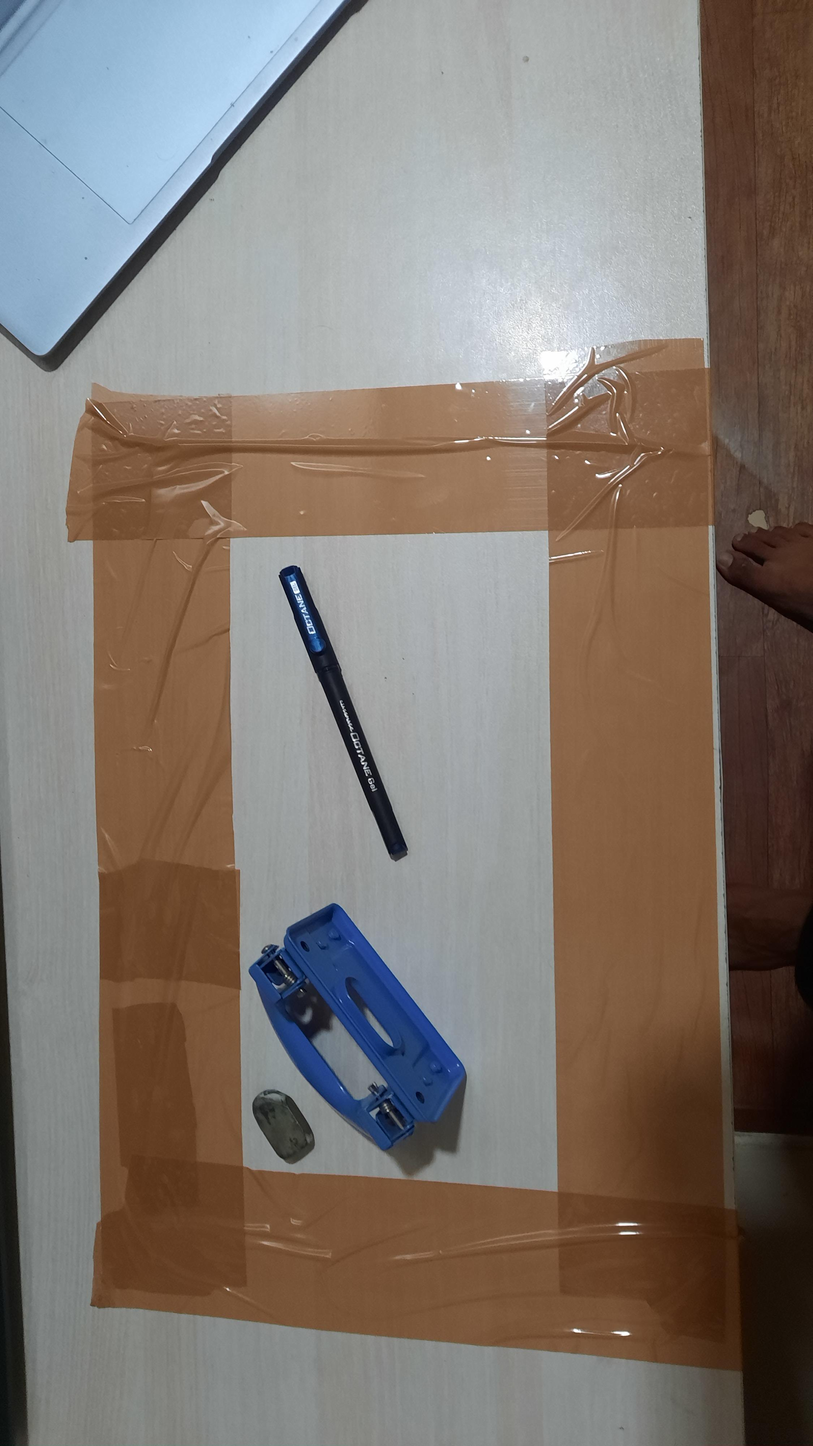Eraser: (251, 1089, 316, 1167)
Pen: (279, 565, 409, 862)
Punch: (248, 902, 468, 1153)
